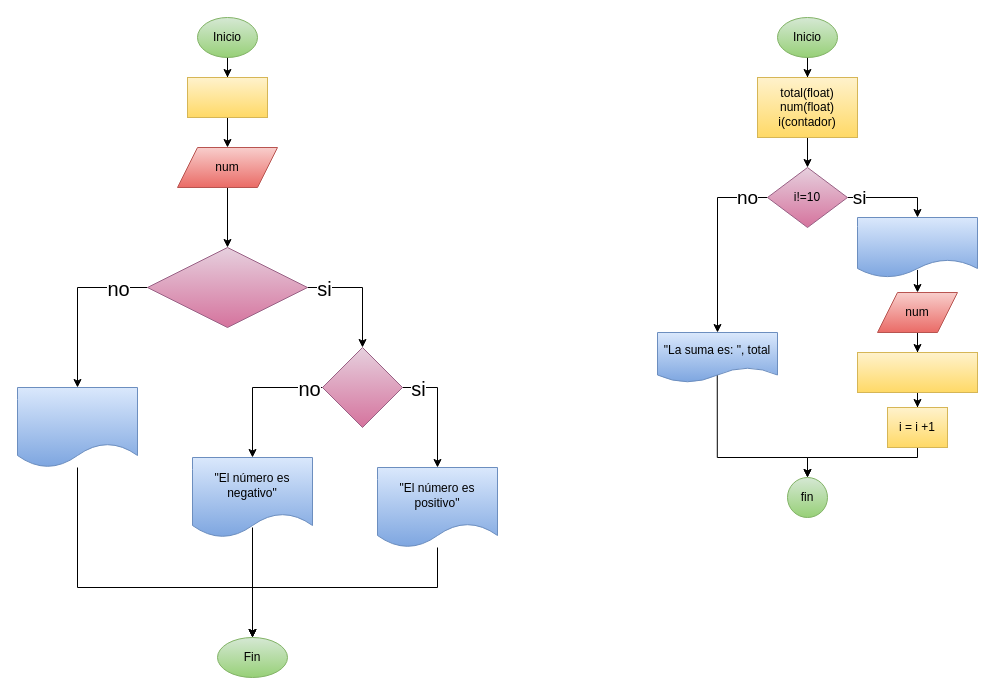
Image size: 995x695. Some labels were removed from this diagram. Here are the shapes that lost their labels. From the top down, the box of each, then its label:
(186, 76, 268, 118): num(int)
(856, 216, 978, 278): "Ingrese número a sumar"
(146, 246, 308, 328): num<0 o num>0
(322, 346, 402, 428): num>0
(856, 352, 978, 392): total = total + num
(16, 386, 138, 468): "El número es 0"
